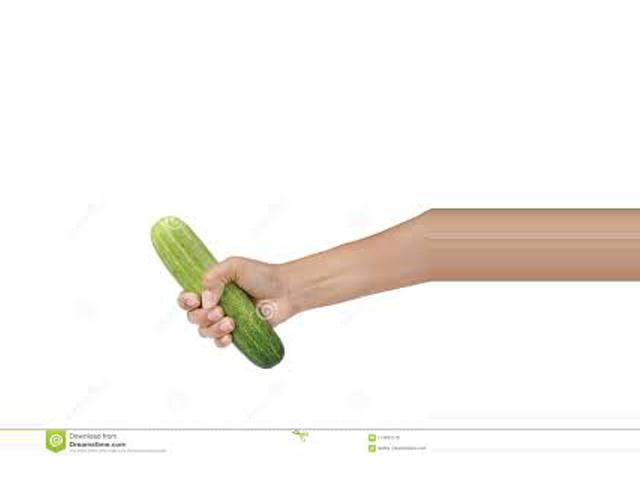cucumber: (151, 217, 288, 369)
